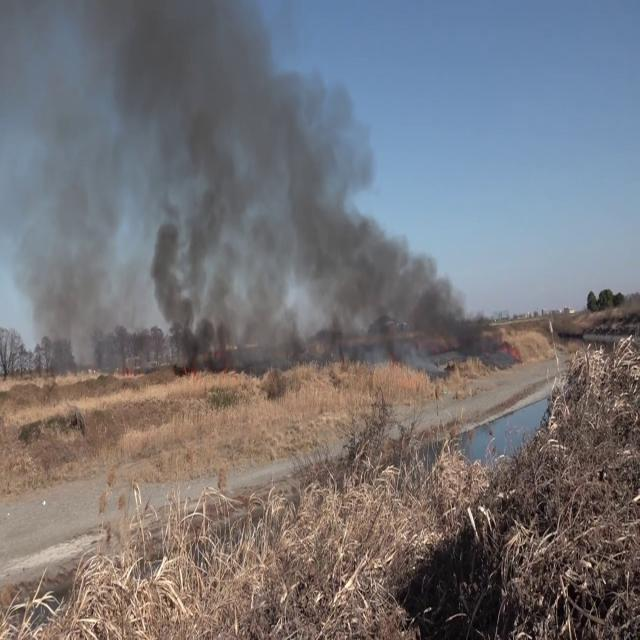Smoke: (120, 1, 486, 360), (0, 3, 142, 369)
